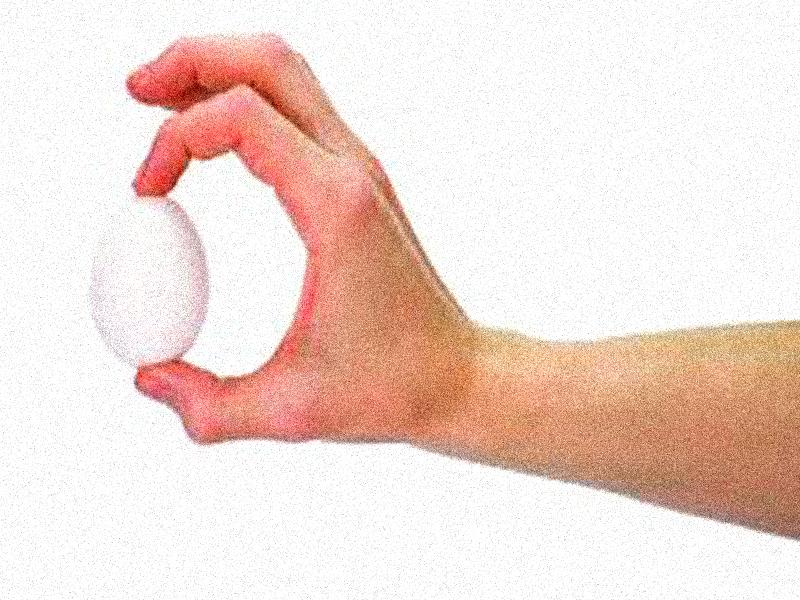Eggs: (89, 193, 209, 367)
